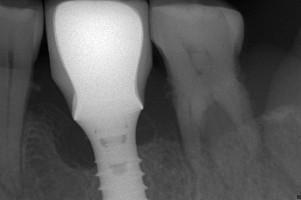Endo-Periodontal Lesion: (200, 102, 237, 148)
